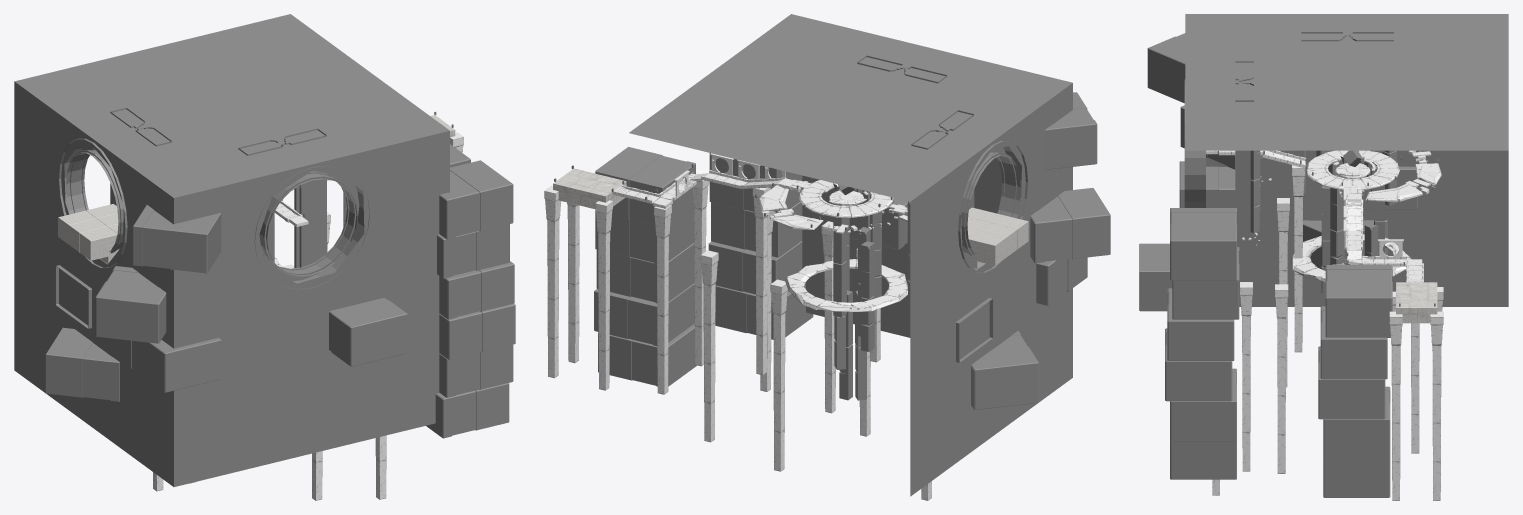
3 views of the same model, side by side, from view 1: azimuth 30°, elevation 25°; view 2: azimuth 150°, elevation 25°; view 3: azimuth 270°, elevation 25° (orthographic). The views are drawn at different scales.
Visible parts, largest first — view 1: Box078, Box079, Cylinder006, Cylinder007, Object094, shizhu01, Object031, Box018; view 2: Box078, Box079, shizhu01, Box007, Object095, Cylinder007, shihuan, Object017, yuantai01, zoulang2, Object034, hulan (+3 smaller); view 3: Box078, Box079, shizhu01, Object095, Box007, yuantai01, Object017, Object094, Cylinder006, zoulang, shihuan, zoulang2 (+5 smaller).
Boxes of the visible parts, box(x1,y1,x2,y2) form: Box078: box(14, 14, 449, 486); Box079: box(45, 160, 515, 438); Cylinder006: box(254, 166, 369, 289); Cylinder007: box(59, 138, 127, 267); Object094: box(284, 128, 326, 268); shizhu01: box(153, 132, 463, 500); Object031: box(80, 226, 118, 260); Box018: box(135, 127, 284, 261); Box078: box(629, 14, 1072, 496); Box079: box(594, 92, 1110, 409); shizhu01: box(544, 180, 931, 500); Box007: box(833, 189, 910, 400); Object095: box(595, 147, 695, 225); Cylinder007: box(958, 140, 1027, 272); shihuan: box(785, 259, 907, 311); Object017: box(553, 168, 626, 208); yuantai01: box(799, 180, 893, 217); zoulang2: box(759, 185, 823, 229); Object034: box(967, 231, 1006, 265); hulan: box(612, 170, 786, 202); Box078: box(1185, 14, 1508, 306); Box079: box(1139, 33, 1417, 497); shizhu01: box(1212, 165, 1443, 500); Object095: box(1325, 265, 1392, 337); Box007: box(1247, 150, 1398, 293); yuantai01: box(1307, 150, 1399, 189); Object017: box(1396, 282, 1437, 323); Object094: box(1235, 81, 1253, 237); Cylinder006: box(1184, 79, 1205, 207); zoulang: box(1219, 150, 1422, 280); shihuan: box(1291, 234, 1411, 282); zoulang2: box(1365, 163, 1441, 202).
Size of the model in its own units: 130 by 101 by 91.33.
